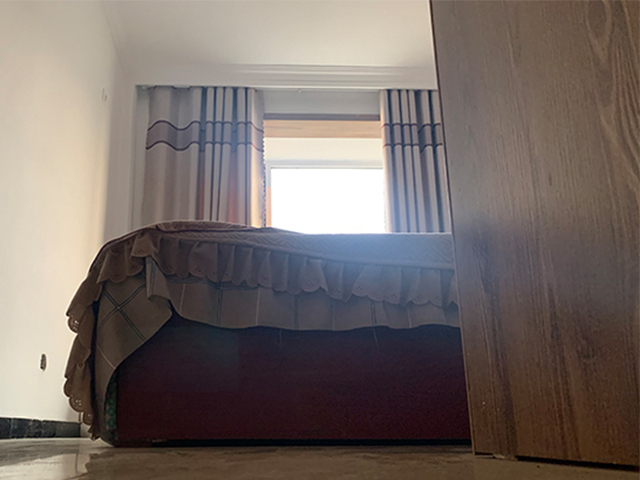bed: (61, 220, 473, 448)
curtain: (142, 84, 272, 234), (375, 85, 453, 235)
